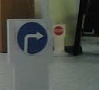right: (11, 20, 52, 56)
